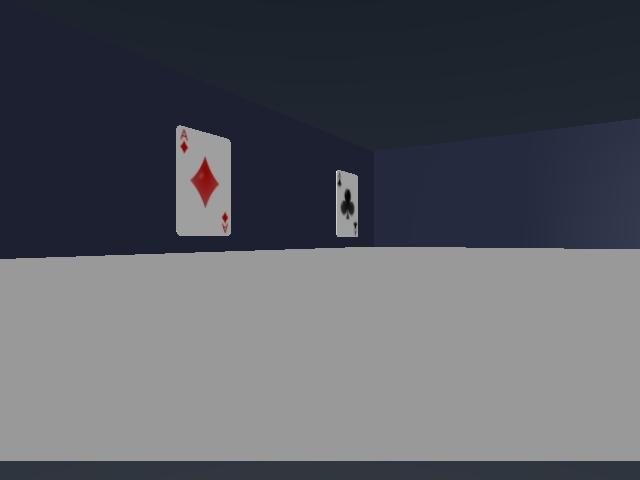club: (336, 170, 358, 236)
diamond: (176, 126, 230, 235)
